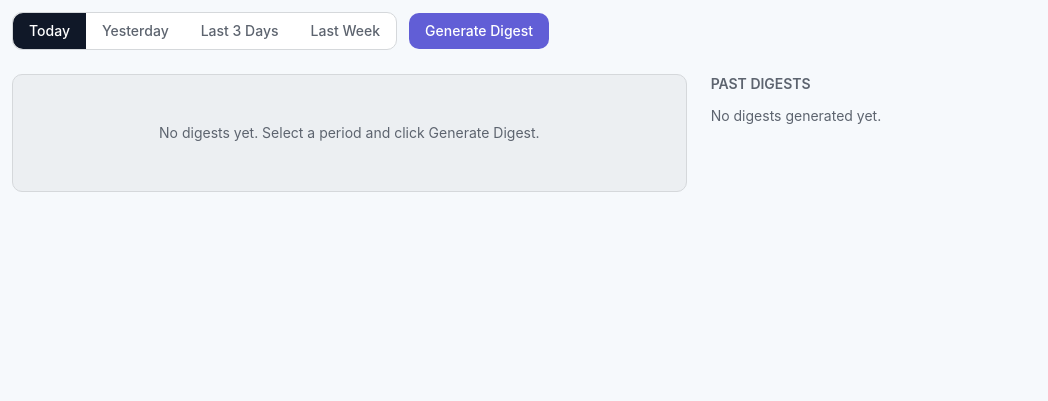
Scenario: DigestViewer › keeps polling until a slow generated digest becomes visible
The width and height of the screenshot is (1048, 401).
What coordinates should you click on to do the following:
click the button "Generate Digest"
I would click on:
 (479, 31)
Its box is [409, 13, 549, 49].
Wait 10000 ms
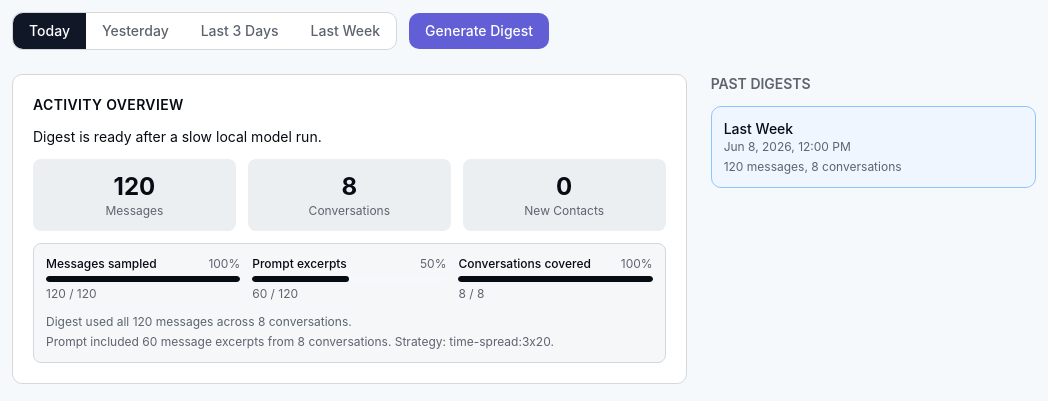
Check: the text "Digest is ready after a slow local model run." is shown, box [33, 128, 322, 145]
